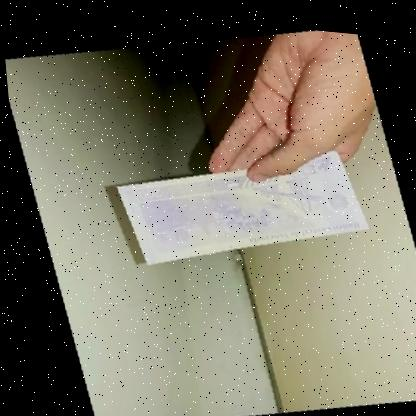two_hundred-back-vef: (106, 124, 372, 281)
